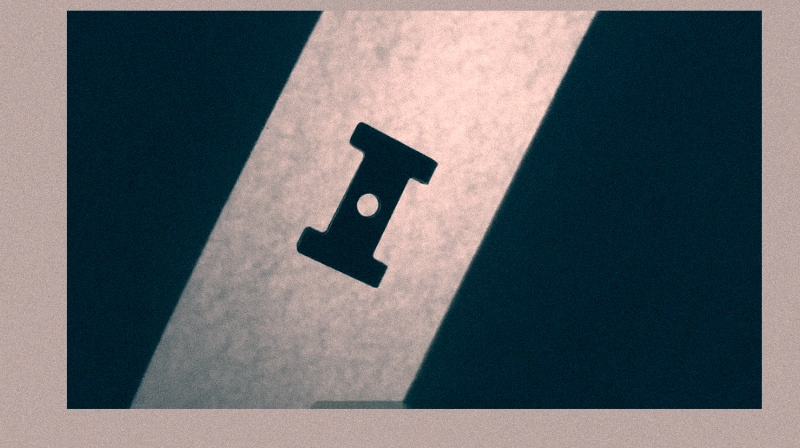O002: (291, 118, 441, 288)
